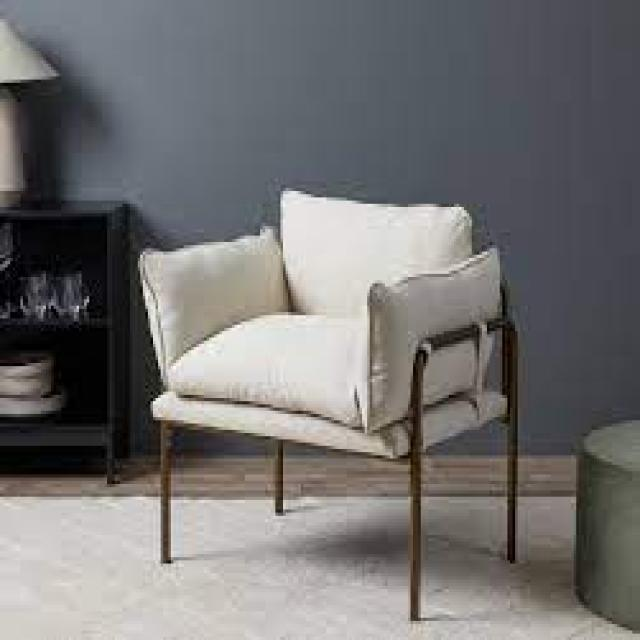chair: (76, 124, 554, 640)
